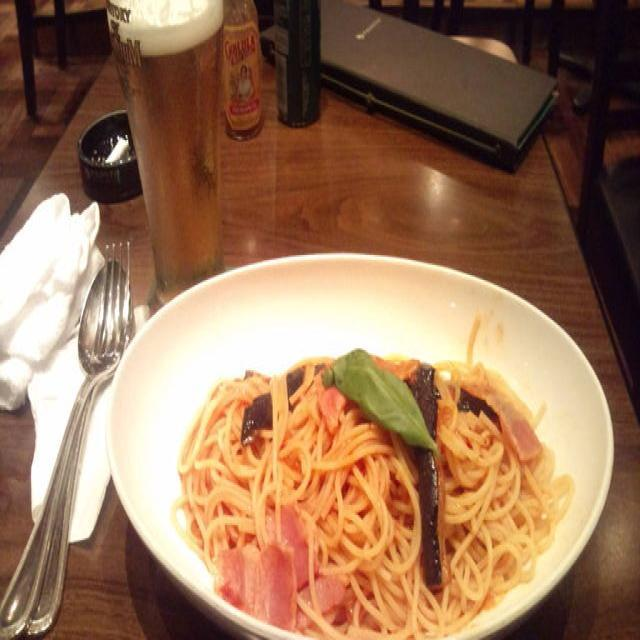Pasta: (178, 345, 576, 630)
